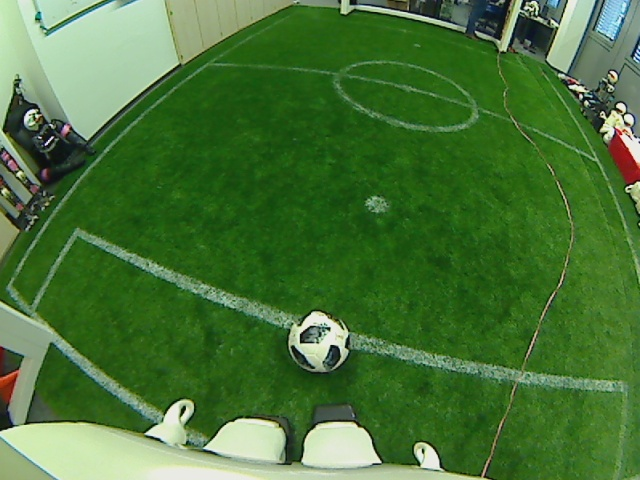ball: (289, 306, 352, 378)
